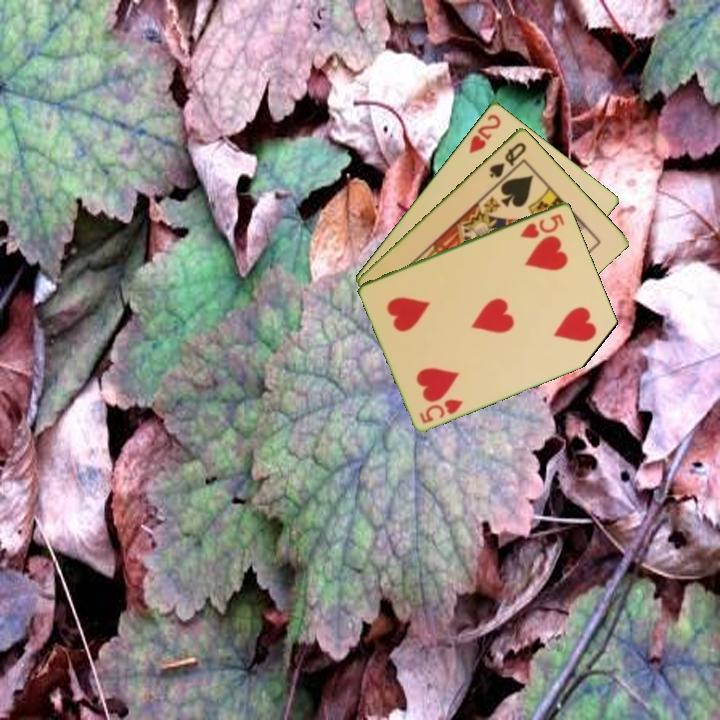2h: (465, 110, 504, 156)
5h: (517, 210, 567, 241), (416, 395, 466, 426)
Qs: (486, 138, 529, 180)
